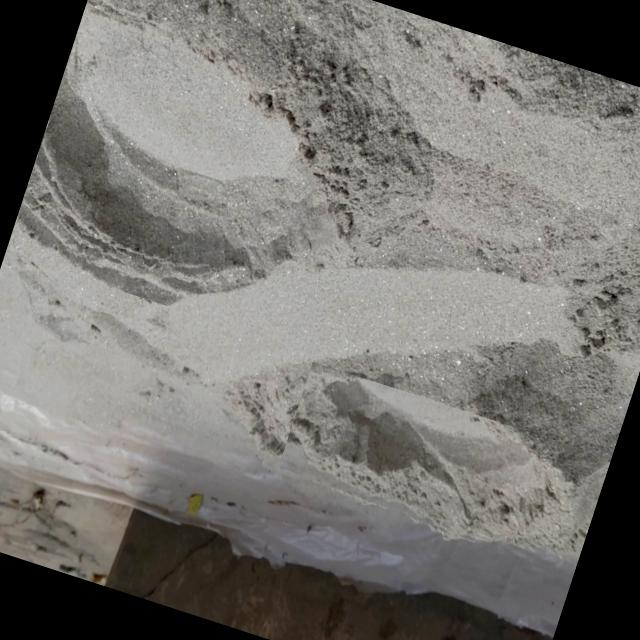C20: (17, 9, 330, 304), (290, 377, 557, 545)
